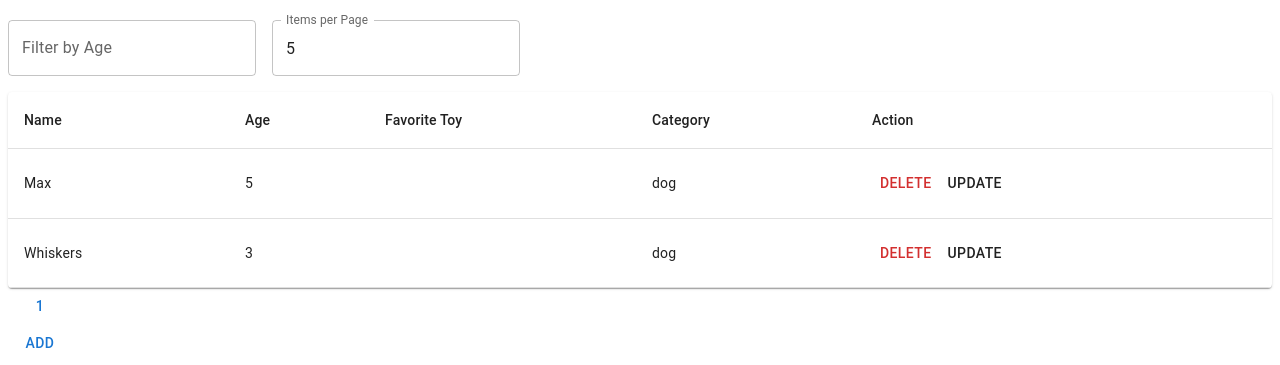
AllPets Component › filters pets by age
Type "3" into the field labelled "Filter by Age".
click(132, 48); type("3")  # box x1=8 y1=20 x2=256 y2=76
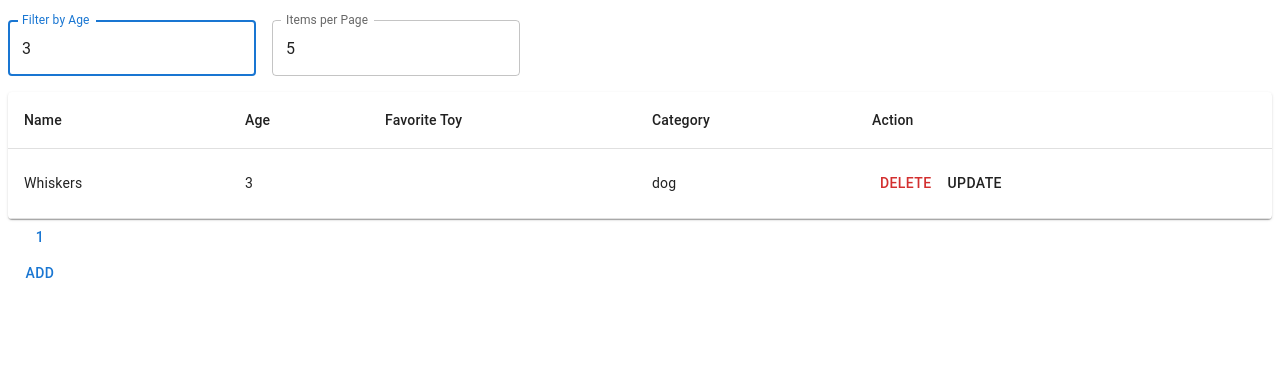
Expected: the text "Whiskers" is shown, x1=8 y1=148 x2=229 y2=218
Expected: the text "Max" is gone
